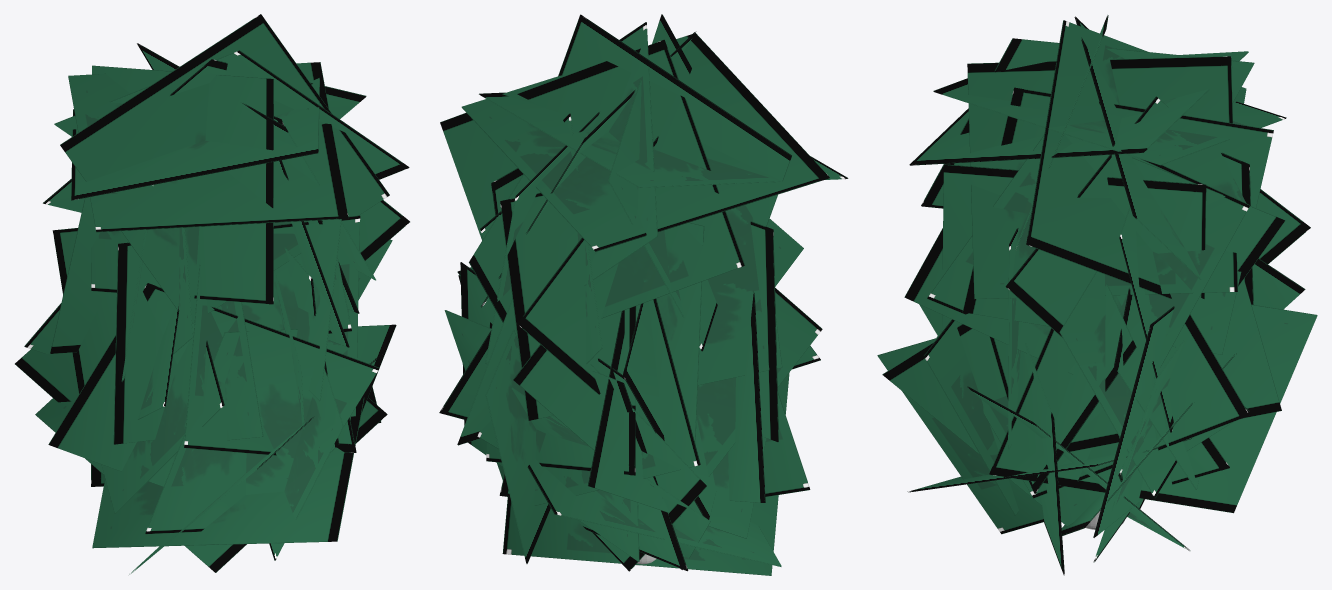
Rendered from Hugo_Trees2.fbx.
The picture shows the model from 3 angles, left to right: view 1: azimuth 30°, elevation 25°; view 2: azimuth 150°, elevation 25°; view 3: azimuth 270°, elevation 25°; orthographic projection. The views are drawn at different scales.
Parts seen in each view (by area): view 1: tree2; view 2: tree2; view 3: tree2.
Boxes of the visible parts, <box> form: tree2: <box>15,14,409,574</box>; tree2: <box>439,14,848,575</box>; tree2: <box>877,15,1317,575</box>.
Size of the model in its own units: 168 by 254 by 186.
